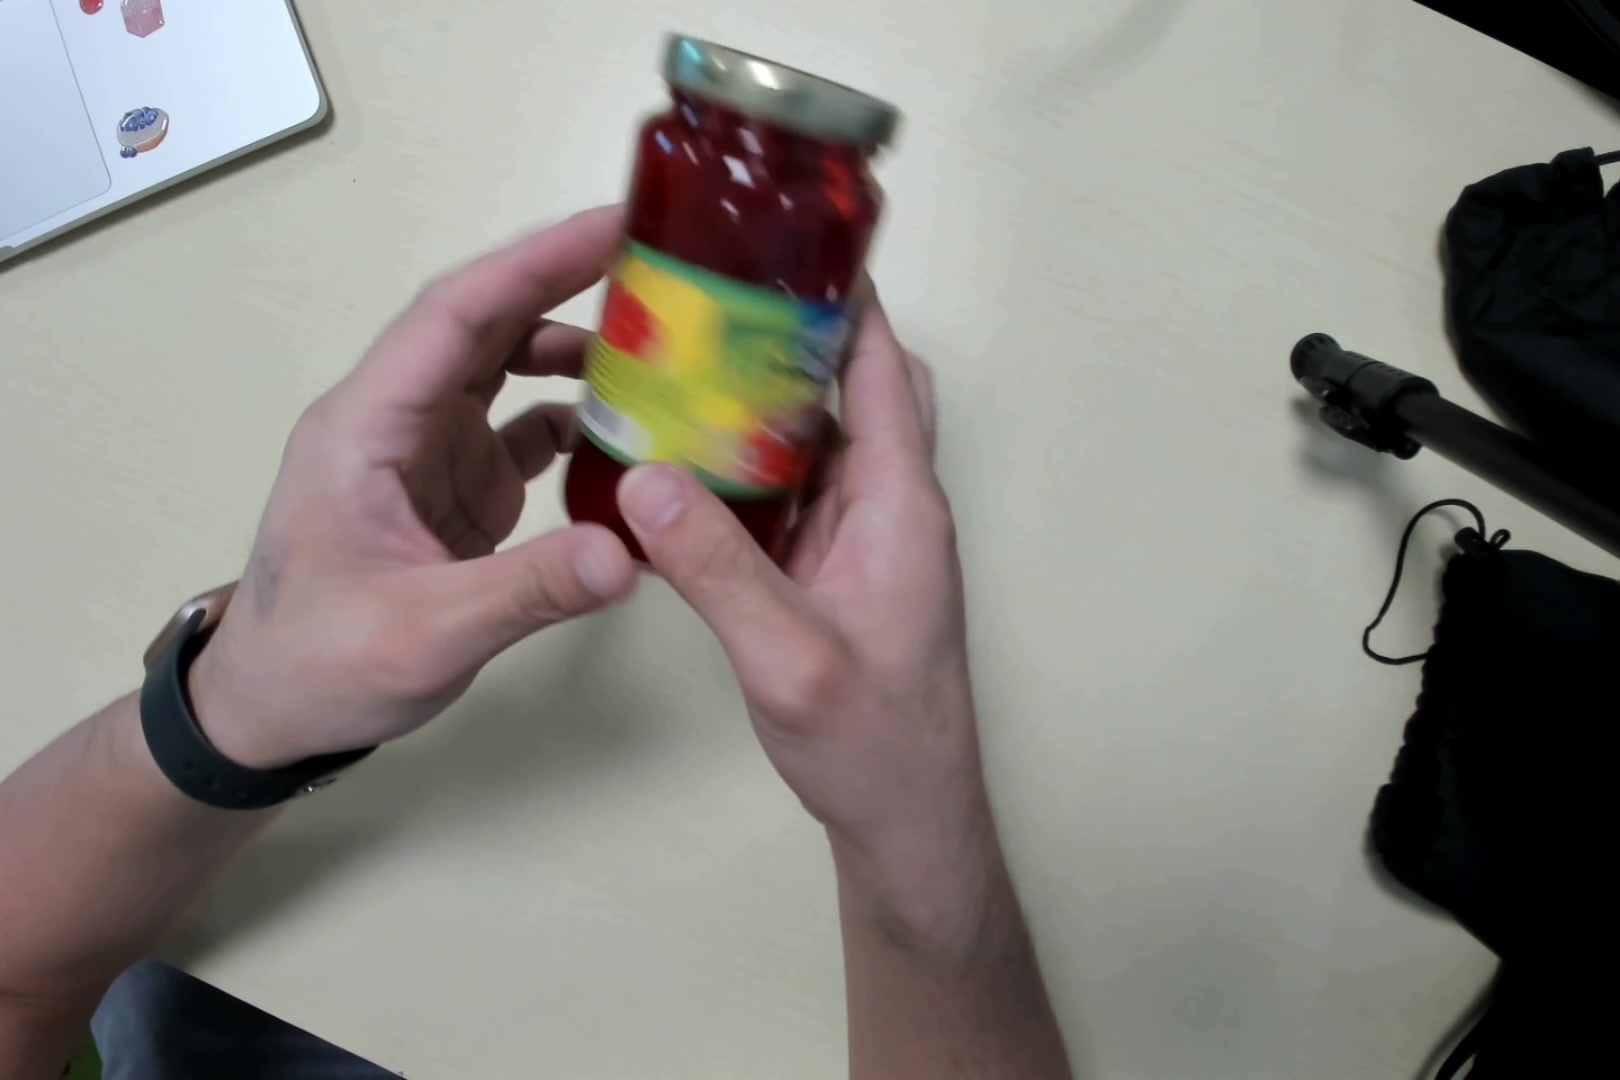OtherBakingNeeds_200-299g_NonHalal_NonHealthy: (567, 39, 881, 579)
